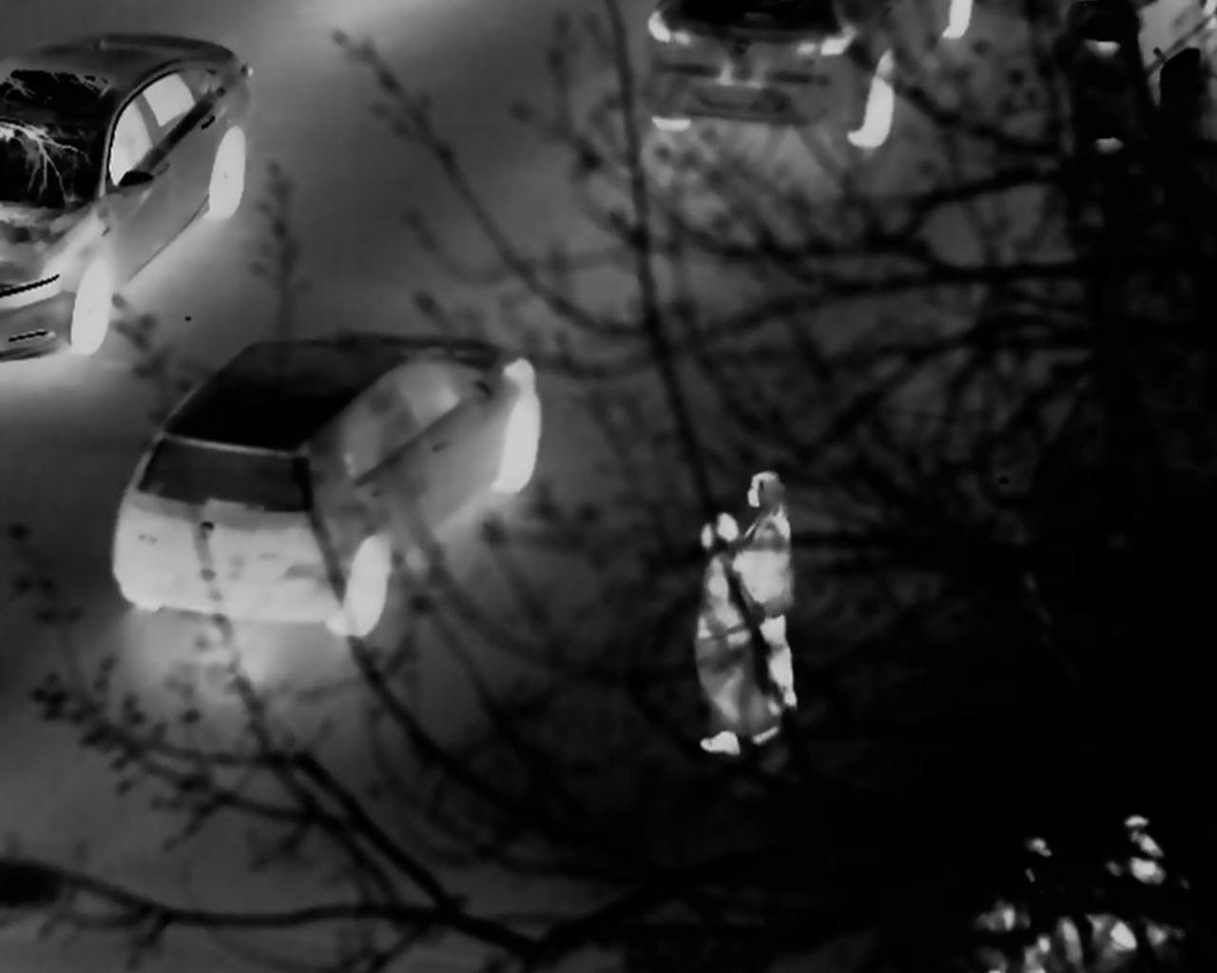person: (690, 500, 769, 750), (1079, 814, 1197, 973), (733, 461, 800, 712), (983, 832, 1083, 973)
